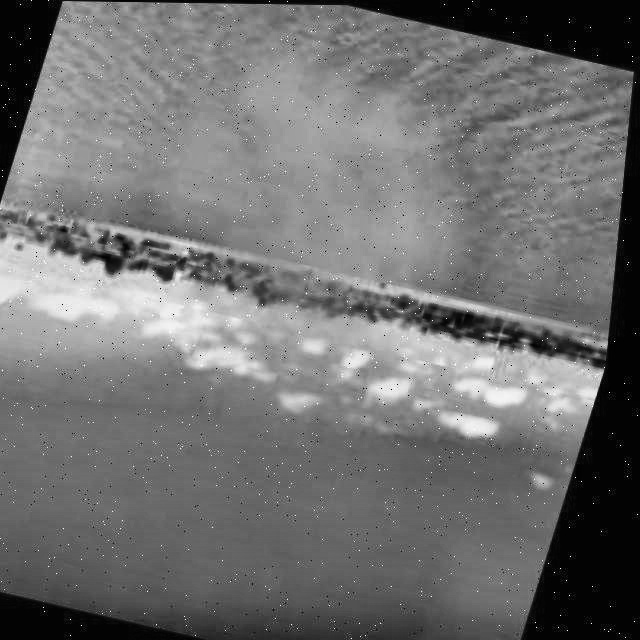Smoke: (66, 4, 542, 438)
